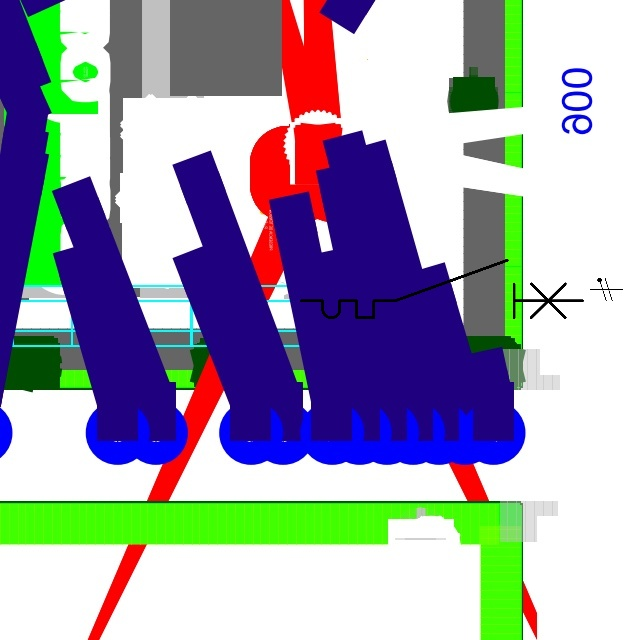interruptor_termomagnetico: (294, 253, 589, 325)
